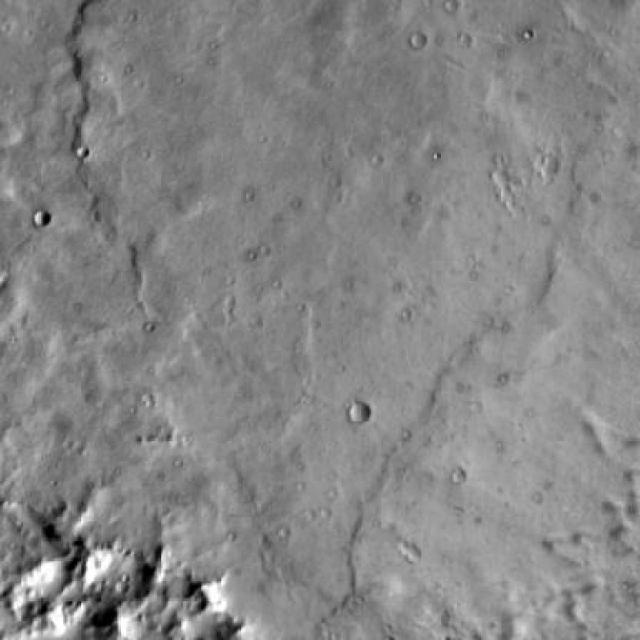crater: (348, 401, 370, 422), (537, 155, 558, 176), (410, 35, 427, 51), (34, 211, 49, 226)
